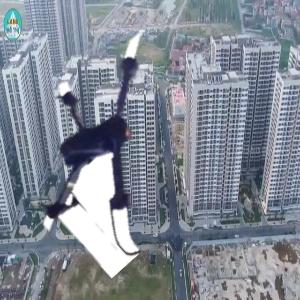drone: (2, 35, 215, 248)
